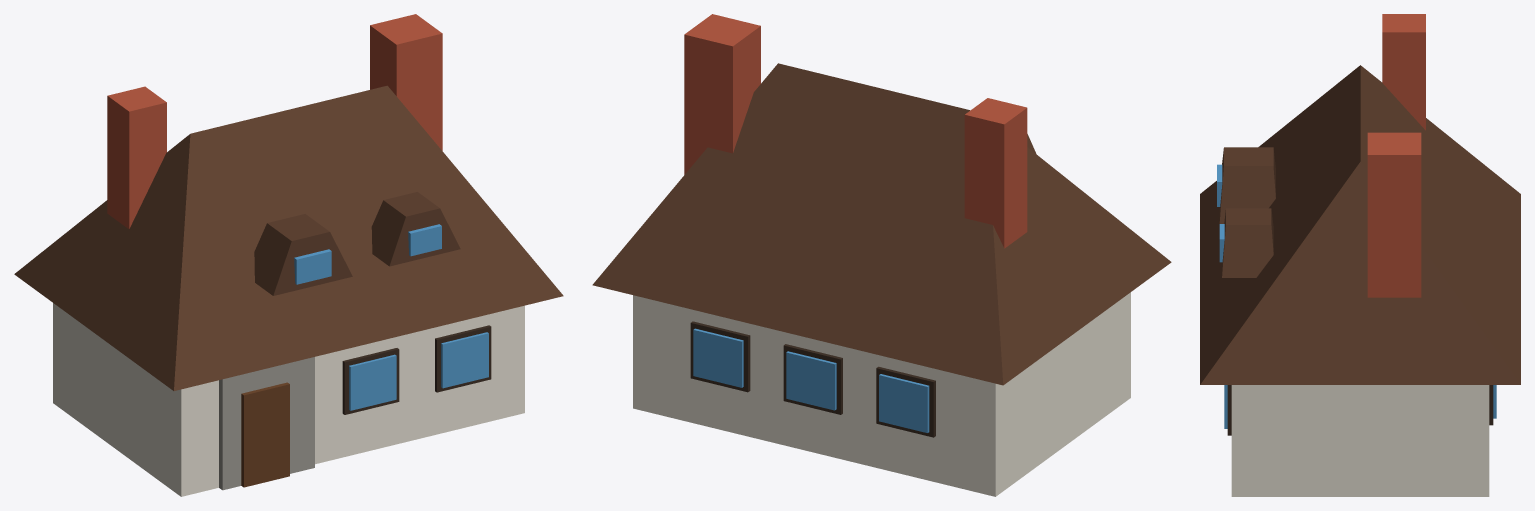
The model's file is 53_polish_karczma_1.obj.
The picture shows the model from 3 angles, left to right: view 1: azimuth 30°, elevation 25°; view 2: azimuth 150°, elevation 25°; view 3: azimuth 270°, elevation 25°; orthographic projection. The views are drawn at different scales.
Visible parts, largest first — view 1: 53_polish_karczma_1; view 2: 53_polish_karczma_1; view 3: 53_polish_karczma_1.
Part boxes in pixels (x1,y1,x2,y2): 53_polish_karczma_1: (14,14,563,496); 53_polish_karczma_1: (592,14,1171,496); 53_polish_karczma_1: (1200,14,1520,496).
Size of the model in its own units: 1.86 by 1.52 by 1.32.
